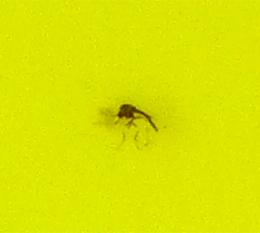Nematocera: (100, 100, 160, 133)
